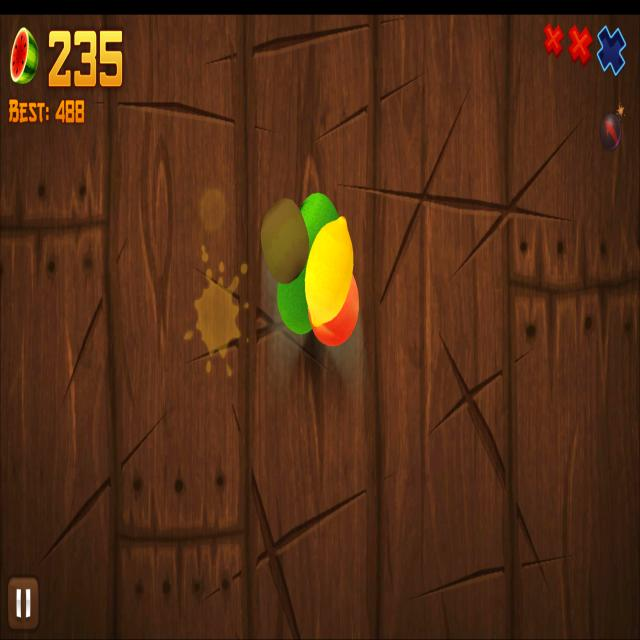fruit: (306, 216, 354, 326), (260, 197, 310, 283), (310, 272, 360, 346), (278, 274, 313, 334), (300, 191, 338, 246)
